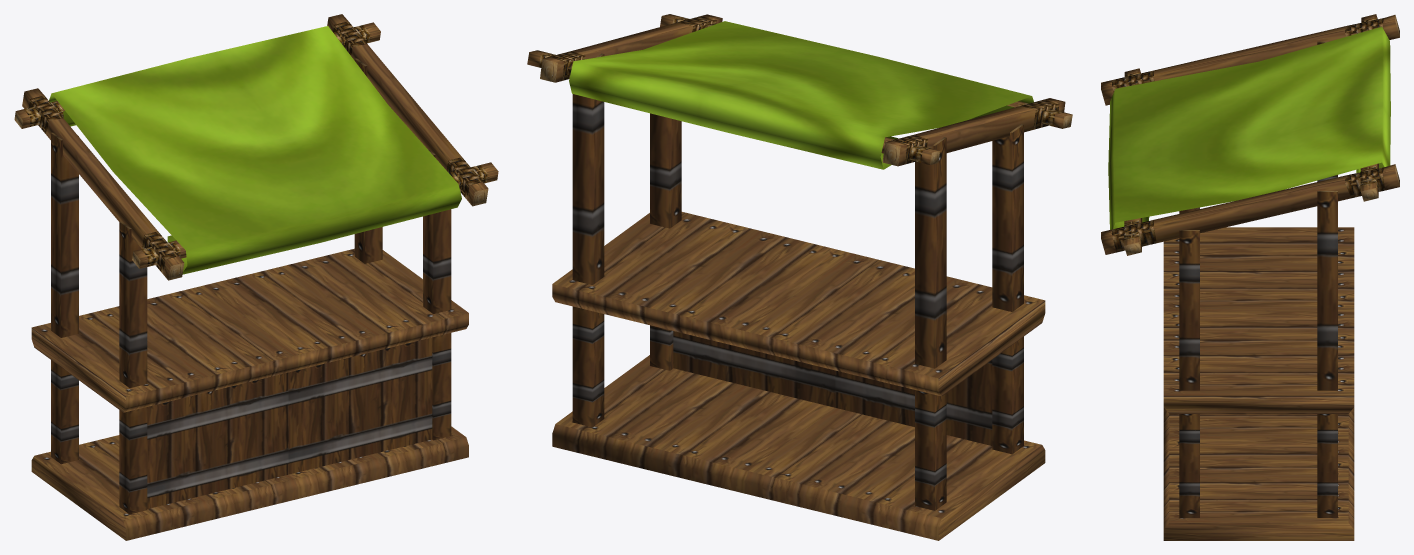
File: MarketPlace04A.fbx
The picture shows the model from 3 angles, left to right: view 1: azimuth 30°, elevation 25°; view 2: azimuth 150°, elevation 25°; view 3: azimuth 270°, elevation 25°; orthographic projection. The views are drawn at different scales.
Visible parts, largest first — view 1: MarketPlace04A; view 2: MarketPlace04A; view 3: MarketPlace04A.
Boxes of the visible parts, box(x1,y1,x2,y2) form: MarketPlace04A: box(14, 14, 498, 540); MarketPlace04A: box(527, 14, 1072, 540); MarketPlace04A: box(1101, 14, 1399, 540).
Bounding box in the file's own units: 5.97 × 5.77 × 4.29.
